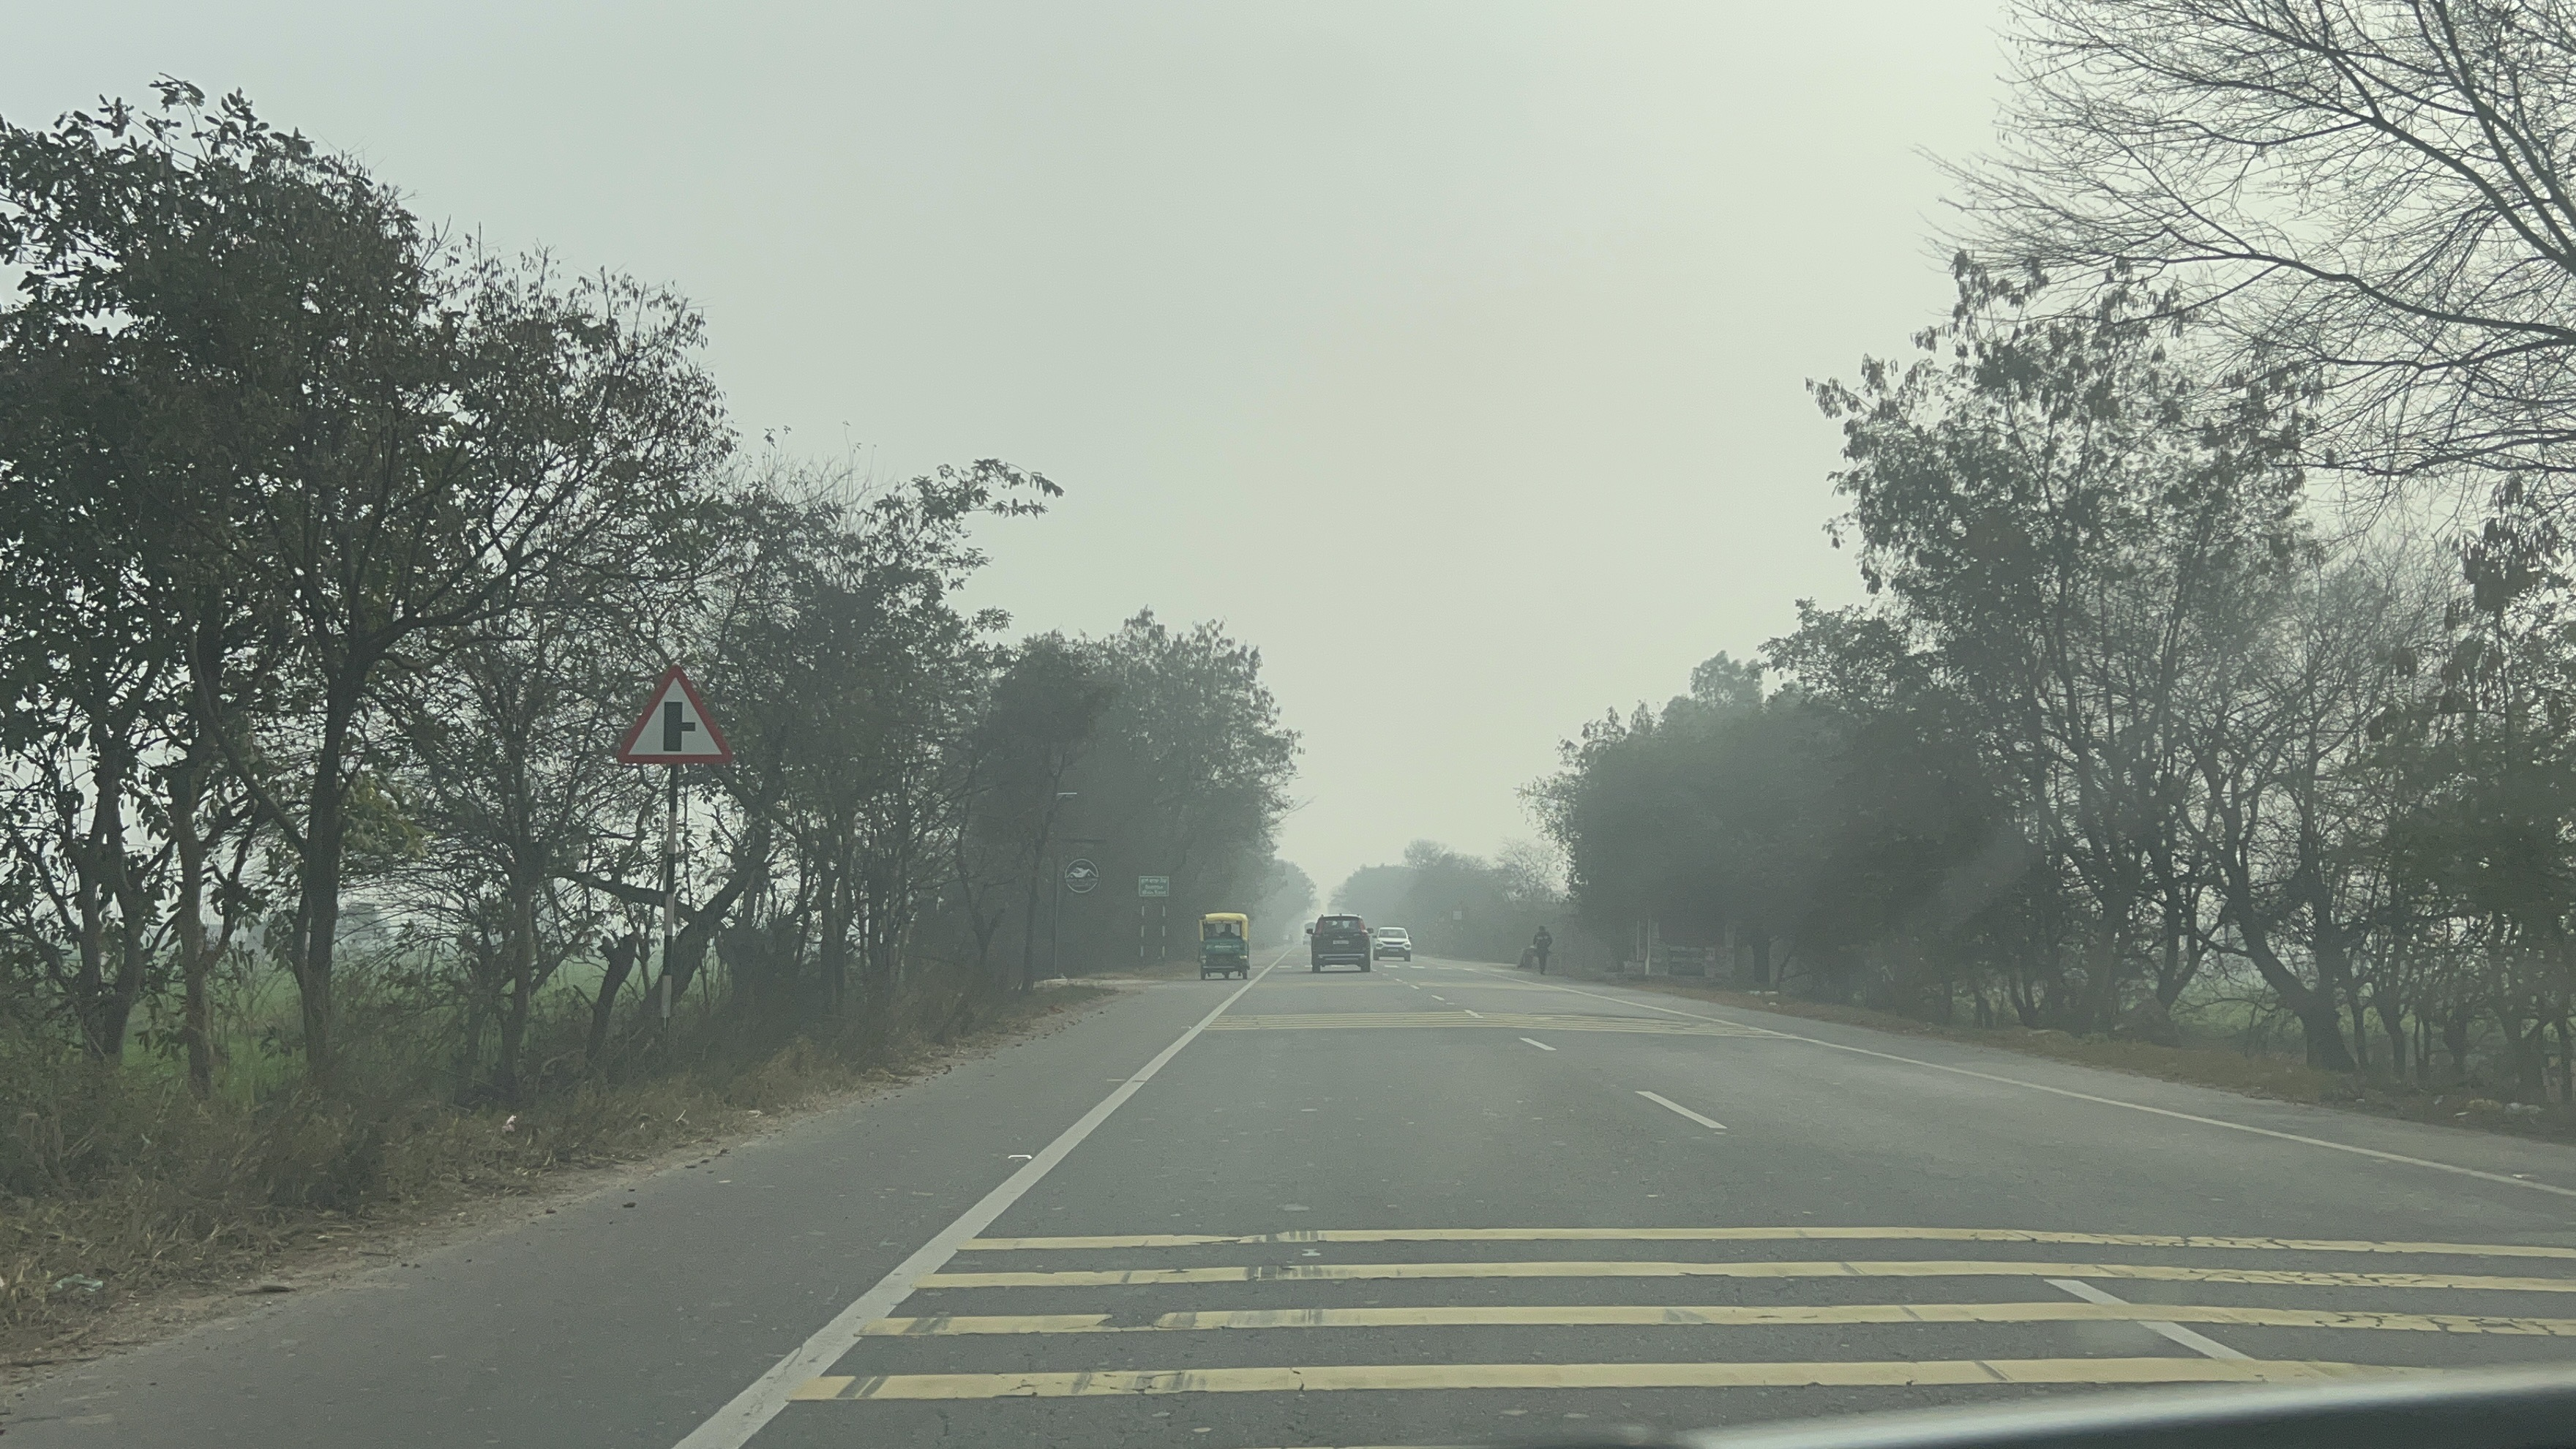Informatory: (1127, 862, 1180, 909)
Warning: (609, 658, 741, 777)
